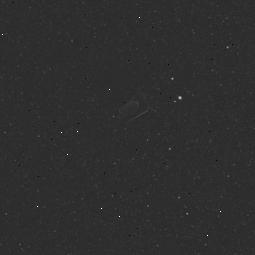proba_3_ocs: (101, 69, 204, 145)
